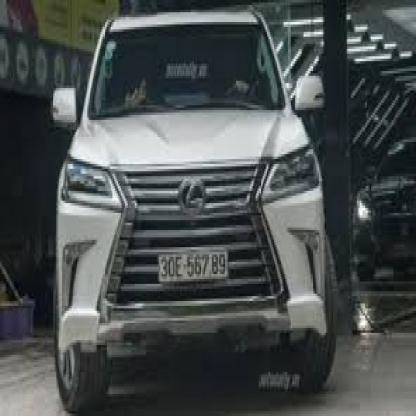biensoxe: (158, 245, 229, 283)
